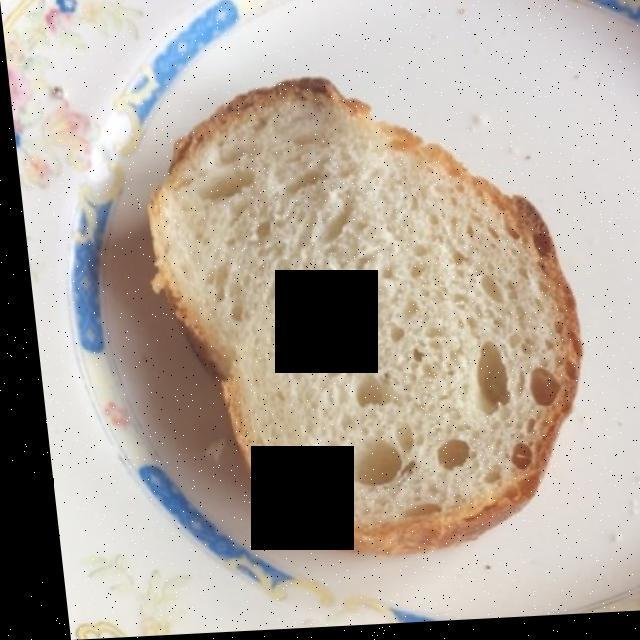bread: (142, 92, 563, 555)
